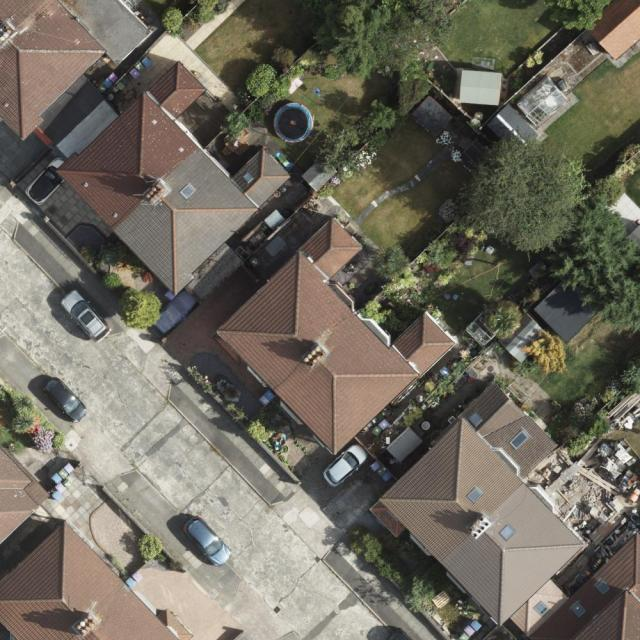roof: (0, 0, 291, 295), (368, 382, 640, 640), (212, 218, 457, 460), (0, 522, 193, 640), (0, 439, 53, 548), (582, 0, 640, 58)
skylight: (508, 429, 530, 452), (496, 522, 517, 543), (464, 485, 485, 505), (178, 182, 198, 203), (592, 577, 612, 597), (569, 600, 588, 619), (533, 599, 551, 616), (468, 413, 482, 428), (241, 170, 255, 184)
